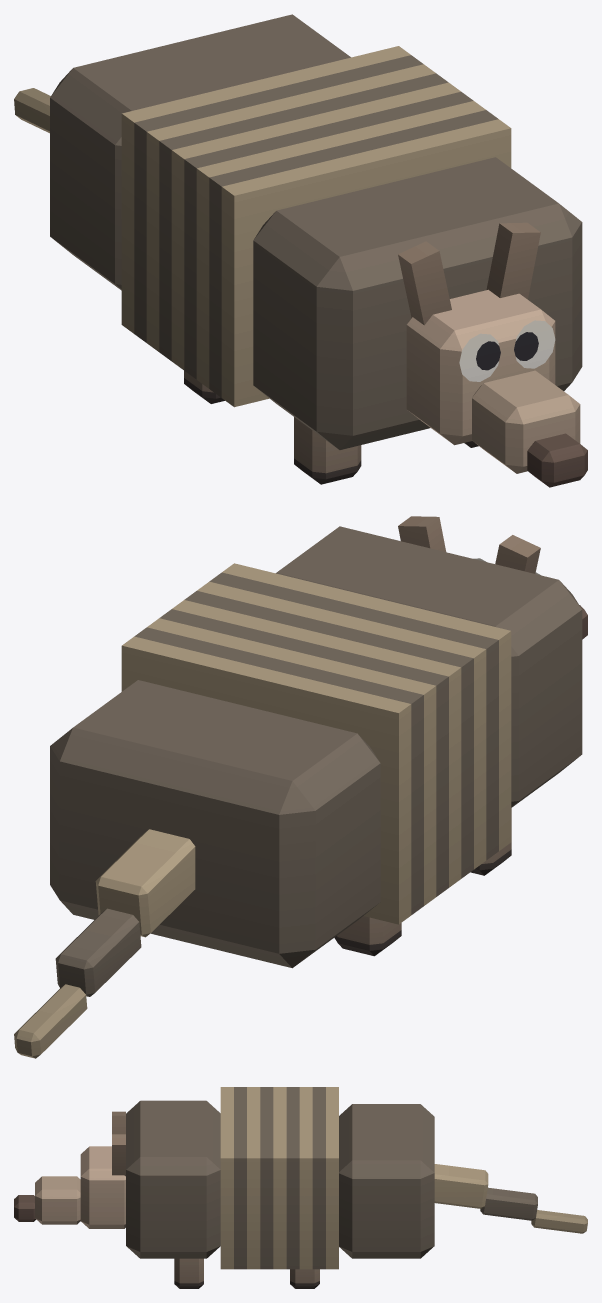
Rendered from tatu.glb.
The picture shows the model from 3 angles, top to bottom: view 1: azimuth 30°, elevation 25°; view 2: azimuth 150°, elevation 25°; view 3: azimuth 270°, elevation 25°; orthographic projection. The views are drawn at different scales.
Parts seen in each view (by area): view 1: body, head, leg-front-right, tail; view 2: body, tail, head, leg-back-right; view 3: body, head, tail, leg-front-left, leg-back-left.
Boxes of the visible parts, <box> form: body: <box>50,14,582,449</box>; head: <box>398,222,587,487</box>; leg-front-right: <box>294,417,361,484</box>; tail: <box>14,88,50,133</box>; body: <box>50,526,582,968</box>; tail: <box>14,829,195,1058</box>; head: <box>398,516,587,639</box>; leg-back-right: <box>334,916,401,956</box>; body: <box>126,1087,434,1269</box>; head: <box>14,1111,125,1228</box>; tail: <box>434,1164,587,1233</box>; leg-front-left: <box>174,1258,203,1288</box>; leg-back-left: <box>290,1269,319,1288</box>.
Size of the model in its own units: 0.96 by 0.9 by 3.27.
1 material, 1 textured.
